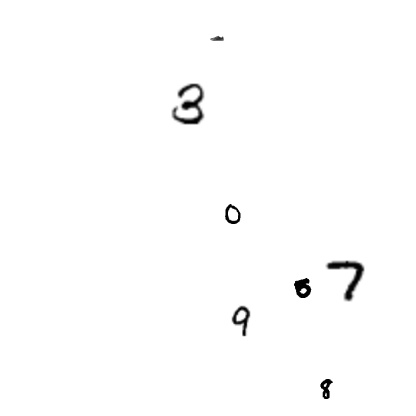0: (218, 200, 246, 228)
3: (162, 78, 218, 134)
5: (288, 273, 316, 301)
7: (320, 247, 376, 303)
8: (312, 374, 340, 402)
9: (220, 297, 262, 339)
Sneaker: (210, 31, 224, 45)
